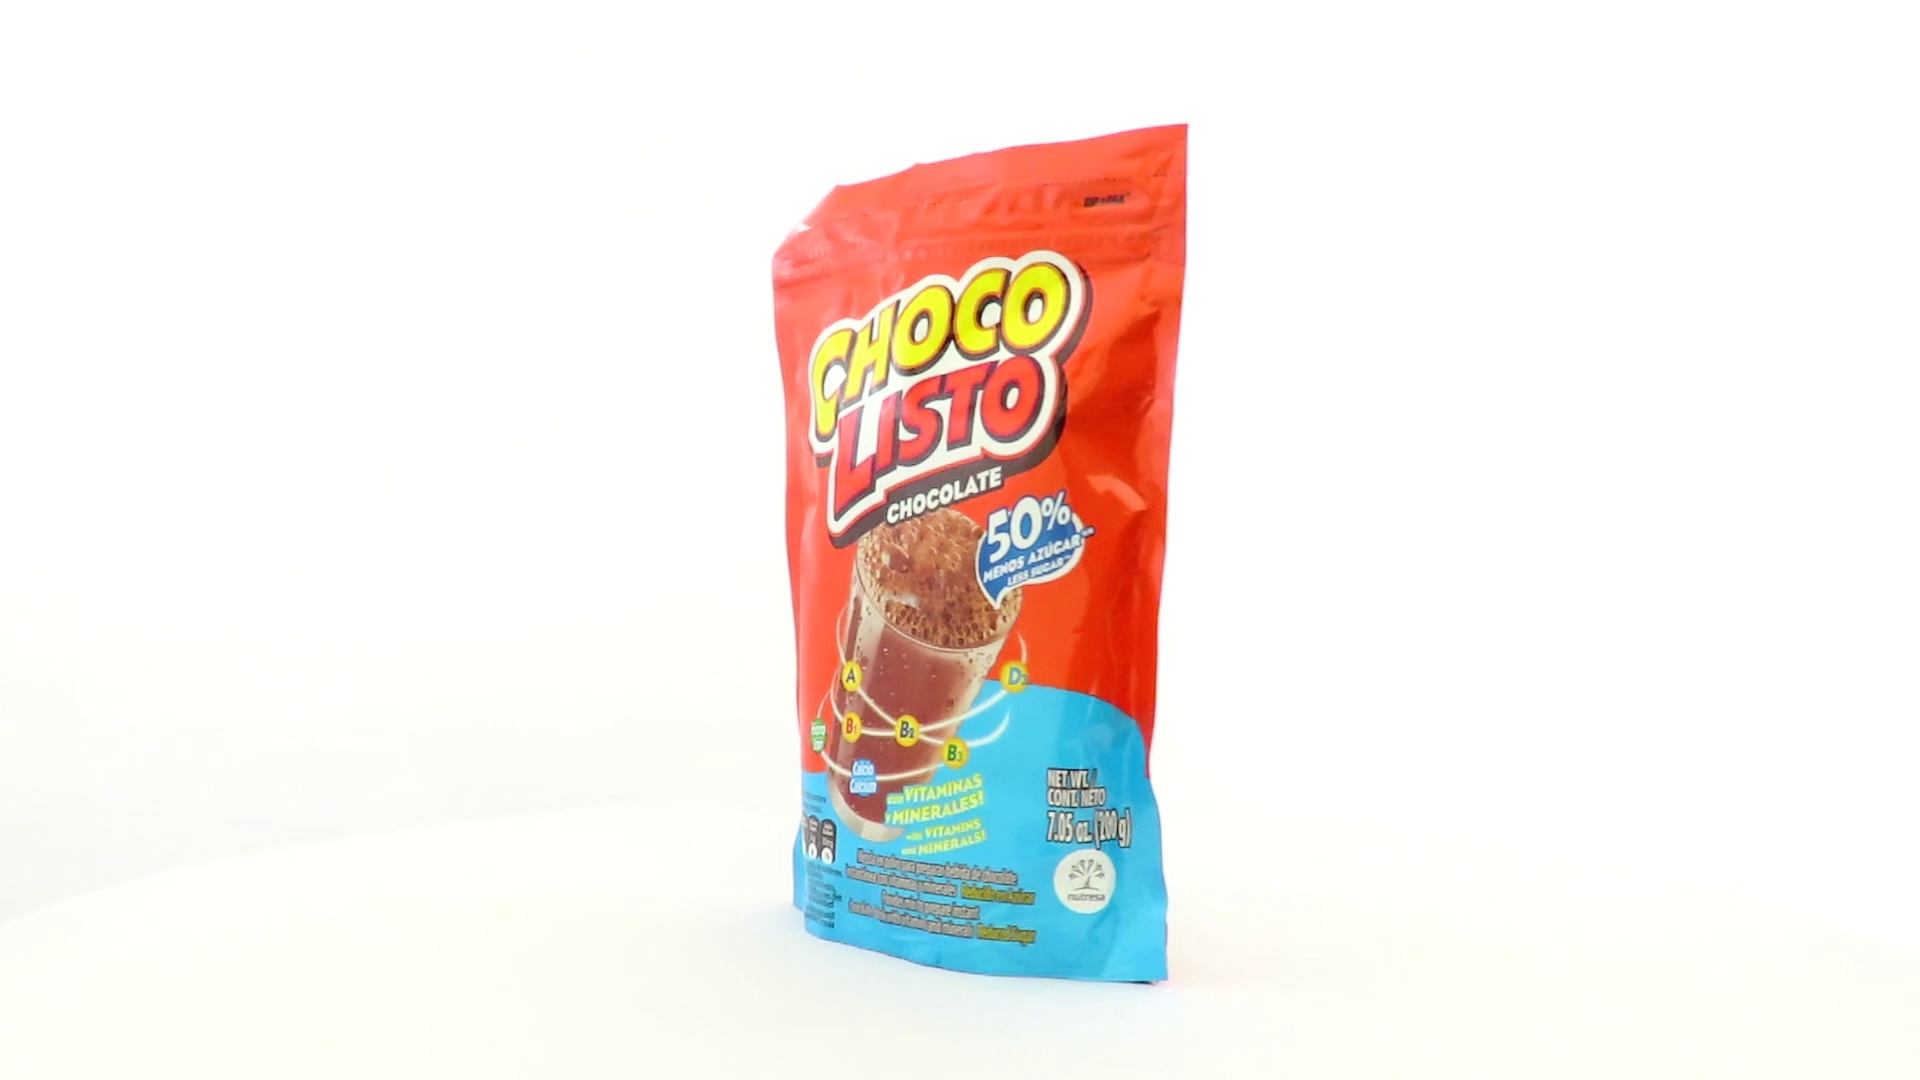COL0170104DYP20000: (766, 119, 1195, 992)
